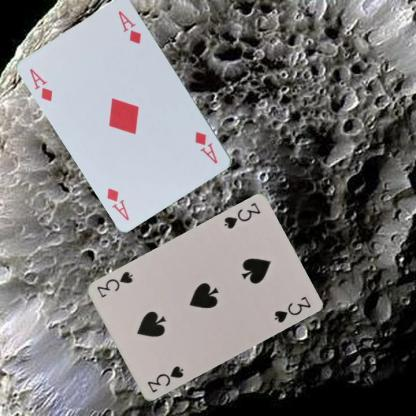3s: (144, 364, 185, 394), (221, 200, 262, 230)
Ad: (192, 129, 220, 165), (27, 66, 54, 103)
